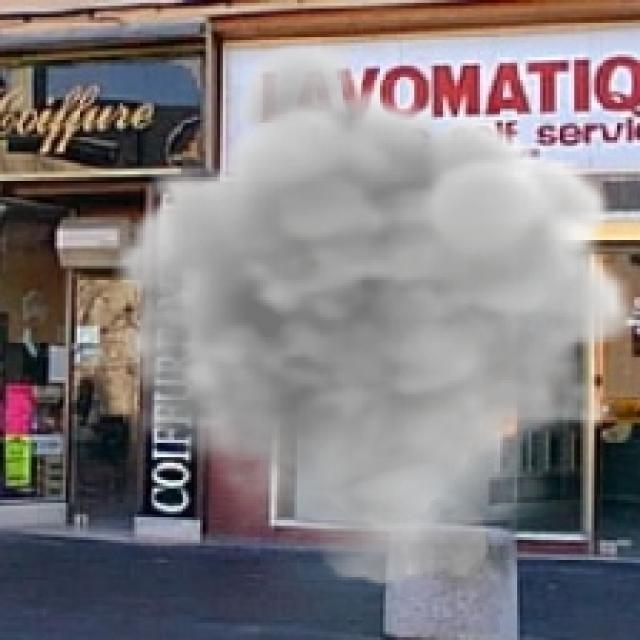smoke: (112, 34, 637, 592)
